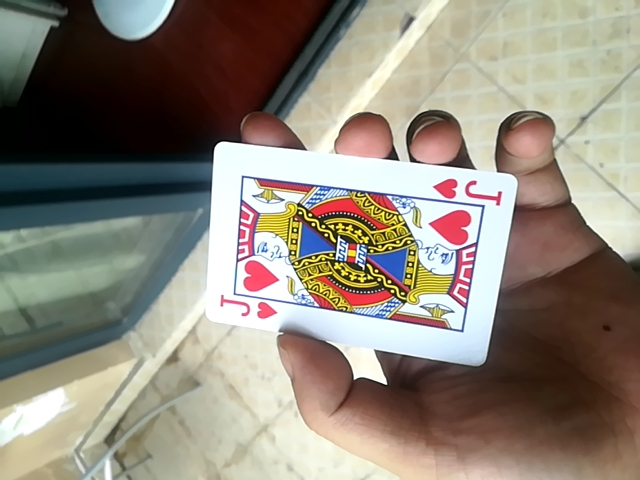hx j: (206, 140, 517, 366)
